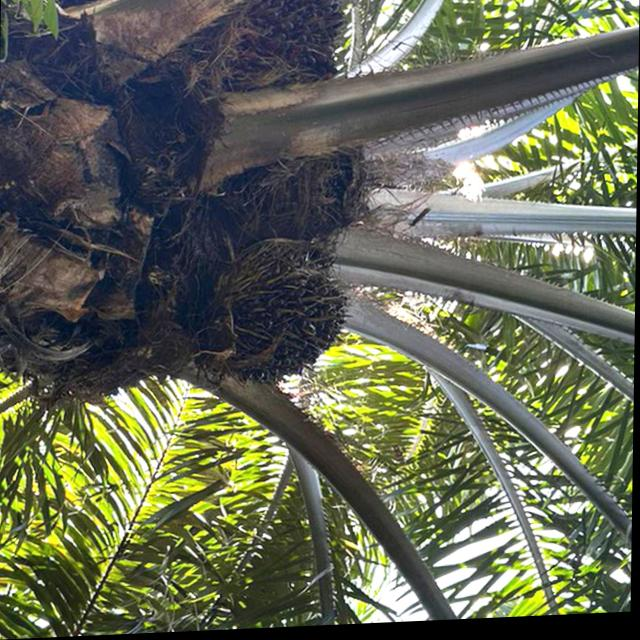unripe: (179, 244, 357, 401), (218, 133, 382, 269), (193, 0, 358, 108)
